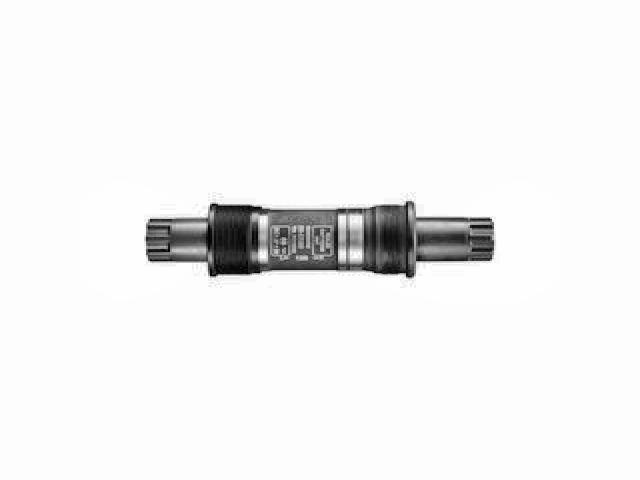bottom_bracket: (143, 199, 498, 282)
